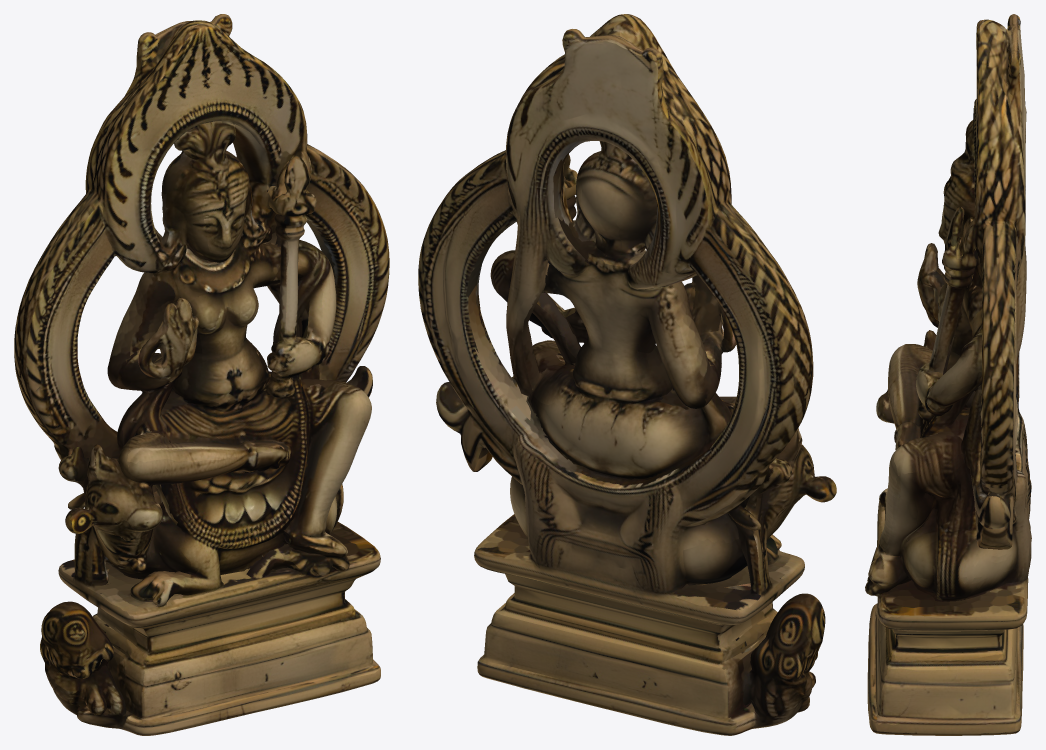
3 renders of one model, left to right at view 1: azimuth 30°, elevation 25°; view 2: azimuth 150°, elevation 25°; view 3: azimuth 270°, elevation 25°, orthographic. The views are drawn at different scales.
Visible parts, largest first — view 1: textured_mesh; view 2: textured_mesh; view 3: textured_mesh.
Part boxes in pixels (x1,y1,x2,y2): textured_mesh: (14,14,389,735); textured_mesh: (418,14,836,735); textured_mesh: (865,14,1031,735).
Bounding box in the file's own units: 1.18 × 1.99 × 0.4608.
1 material, 1 textured.
